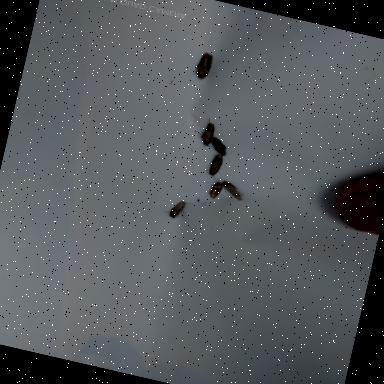pbw: (203, 150, 229, 182), (196, 116, 218, 148), (202, 179, 231, 203), (194, 51, 214, 82), (218, 180, 246, 202), (162, 198, 186, 221), (207, 136, 230, 158)
